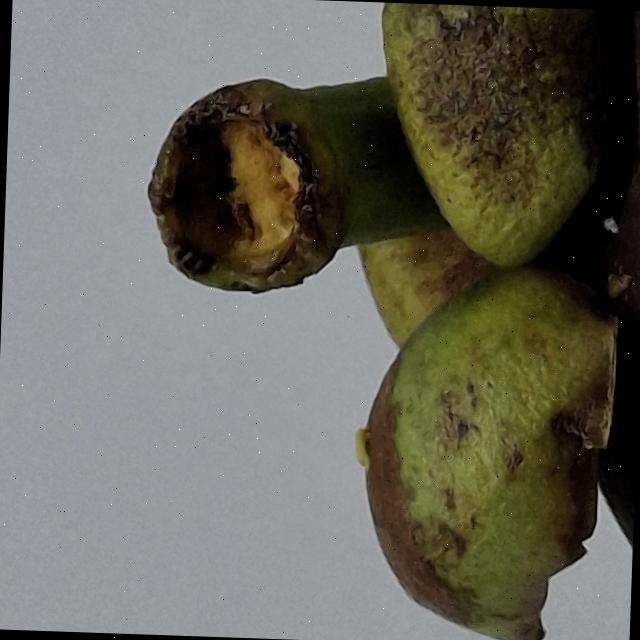mangosteen: (104, 0, 640, 640)
